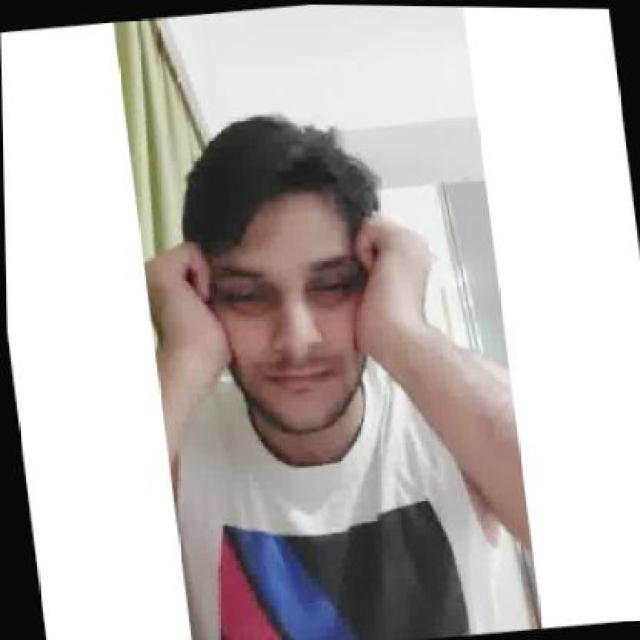inattentif: (172, 103, 390, 442)
